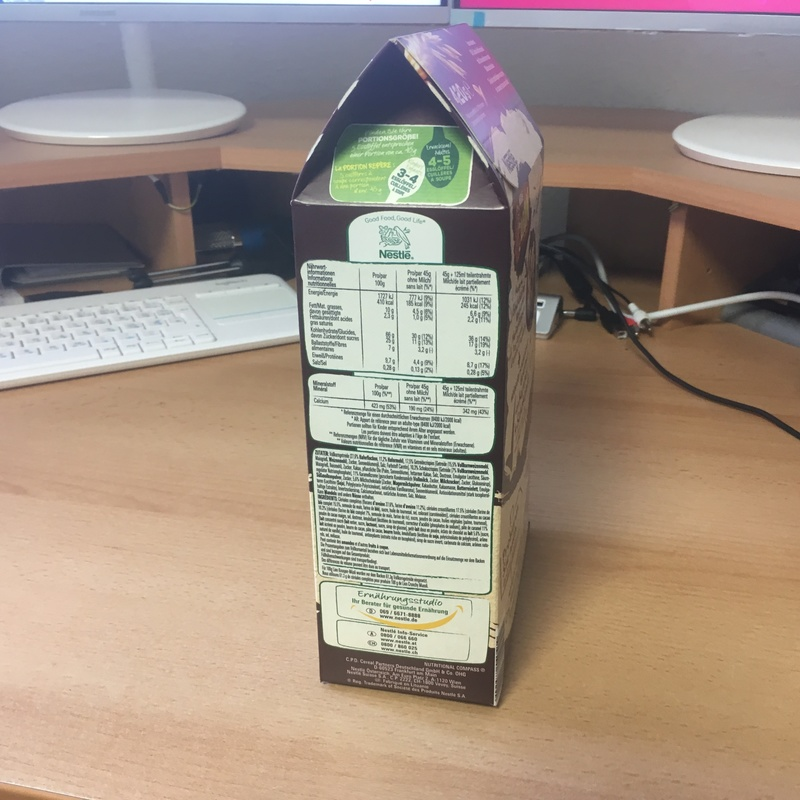cereals: (294, 26, 544, 710)
